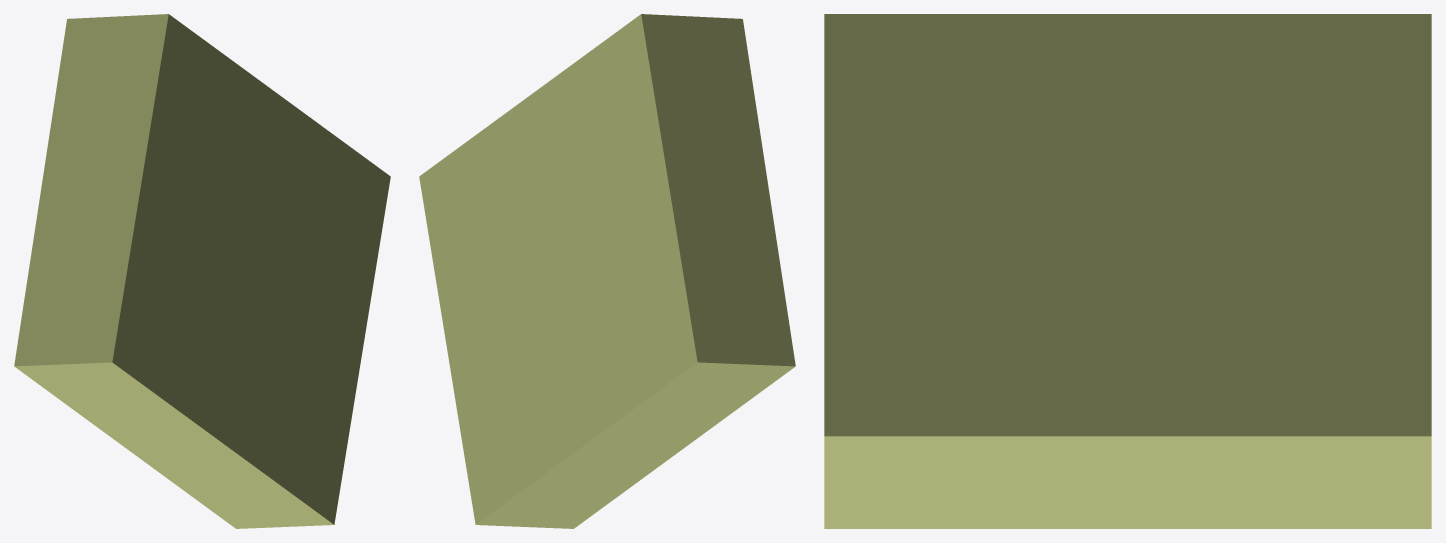
3 views of the same model, side by side, from view 1: azimuth 30°, elevation 25°; view 2: azimuth 150°, elevation 25°; view 3: azimuth 270°, elevation 25° (orthographic). The views are drawn at different scales.
Visible parts, largest first — view 1: 0_0_2_0_1_1_0_0_2_0; view 2: 0_0_2_0_1_1_0_0_2_0; view 3: 0_0_2_0_1_1_0_0_2_0.
Part boxes in pixels (x1,y1,x2,y2): 0_0_2_0_1_1_0_0_2_0: (14, 14, 390, 528); 0_0_2_0_1_1_0_0_2_0: (419, 14, 795, 528); 0_0_2_0_1_1_0_0_2_0: (824, 14, 1431, 528).
Size of the model in its own units: 3.62 by 7.93 by 9.
